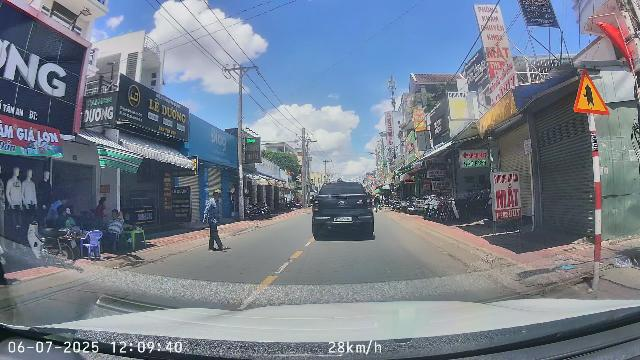207-giao-nhau-voi-duong-khong-uu-tien: (574, 69, 609, 116)
